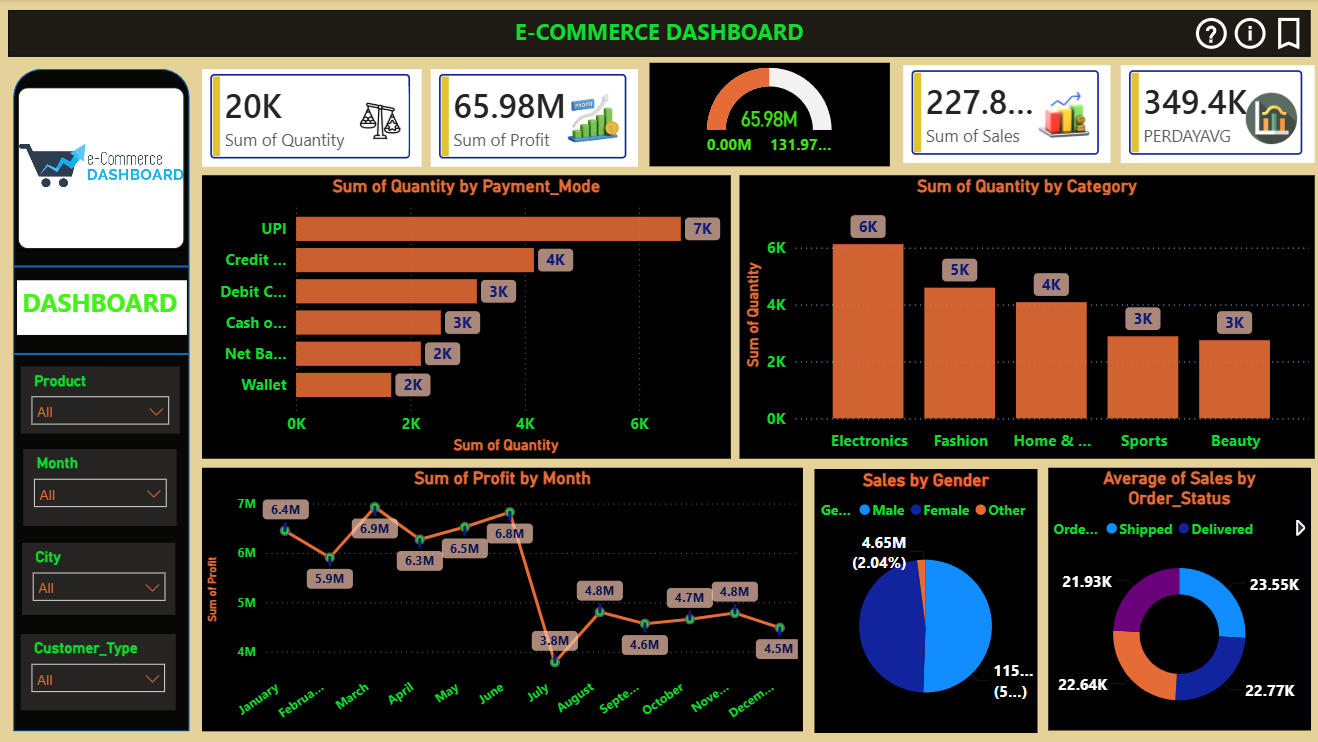

Layout of this report page (visuals, bound fields, positions):
{"tool":"powerbi","page":{"name":"DASHBOARD FINAL PRJ","canvas":[1280,720],"ordinal":0},"visuals":[{"type":"textbox","box":[11,11,1257,45],"z":0},{"type":"shape","box":[15.7,67.6,170.1,639.4],"z":1000},{"type":"lineChart","fields":{"Y":["Sum(E Commerce Data.Profit)"],"Category":["E Commerce Data.Order_Date.Variation.Date Hierarchy.Month"]},"box":[197.9,452.4,580.3,254.6],"z":2000},{"type":"donutChart","fields":{"Category":["E Commerce Data.Order_Status"],"Y":["Avg(E Commerce Data.Sales)"]},"box":[1014.6,452.4,253.4,253.4],"z":3000},{"type":"lineStackedColumnComboChart","fields":{"Category":["E Commerce Data.Category"],"Y":["Sum(E Commerce Data.Quantity)"]},"box":[716.6,170.1,555,273.9],"z":4000},{"type":"clusteredBarChart","fields":{"Y":["Sum(E Commerce Data.Quantity)"],"Category":["E Commerce Data.Payment_Mode"]},"box":[197.9,170.1,510.3,273.9],"z":5000},{"type":"slicer","fields":{"Values":["E Commerce Data.Month"]},"box":[25.3,434.3,148.4,74.8],"z":6000},{"type":"slicer","fields":{"Values":["E Commerce Data.City"]},"box":[24.1,524.8,148.4,70],"z":7000},{"type":"slicer","fields":{"Values":["E Commerce Data.Customer_Type"]},"box":[22.9,612.9,149.6,73.6],"z":8000},{"type":"slicer","fields":{"Values":["E Commerce Data.Product"]},"box":[22.9,354.7,153.2,65.1],"z":9000},{"type":"gauge","fields":{"Y":["Sum(E Commerce Data.Profit)"]},"box":[629.8,61.5,231.6,100.1],"z":10000},{"type":"pieChart","title":"Sales by Gender","fields":{"Y":["Sum(E Commerce Data.Sales)"],"Category":["E Commerce Data.Gender"]},"box":[789,453.6,214.7,254.6],"z":11000},{"type":"shape","box":[15.7,313.7,170.1,57.9],"z":12000},{"type":"image","box":[19.3,84.5,162.9,158],"z":13000},{"type":"actionButton","box":[1152.2,13.3,53.1,39.8],"z":14000},{"type":"actionButton","box":[1189.6,13.3,49.5,39.8],"z":15000},{"type":"actionButton","box":[1227,13.3,41,39.8],"z":16000},{"type":"cardVisual","fields":{"Data":["Sum(E Commerce Data.Profit)"]},"box":[418.6,67.6,200.3,94.1],"z":17000},{"type":"image","box":[534.5,80.8,84.5,66.4],"z":18000},{"type":"cardVisual","fields":{"Data":["Sum(E Commerce Data.Quantity)"]},"box":[197.9,67.6,212.3,94.1],"z":19000},{"type":"image","box":[342.6,84.5,54.3,66.4],"z":20000},{"type":"cardVisual","fields":{"Data":["Sum(E Commerce Data.Sales)"]},"box":[874.7,63.9,200.3,94.1],"z":21000},{"type":"image","box":[1003.8,76,51.9,71.2],"z":22000},{"type":"cardVisual","fields":{"Data":["E Commerce Data.PERDAYAVG"]},"box":[1084.6,63.9,187,94.1],"z":23000},{"type":"image","box":[1205.2,83.2,49.5,63.9],"z":24000},{"type":"textbox","box":[19.3,271.4,164.1,53.1],"z":25000},{"type":"shape","box":[15.7,229.2,170.1,57.9],"z":27000}]}

Visuals, with their boxes in screenshot pixels (x1, y1, x2, y2), scaled from the page's 1280x720 canvas onto the 1318x742 screenshot:
textbox: box(11, 11, 1306, 58)
shape: box(16, 70, 191, 729)
lineChart - Sum(E Commerce Data.Profit) x E Commerce Data.Order_Date.Variation.Date Hierarchy.Month: box(204, 466, 801, 729)
donutChart - E Commerce Data.Order_Status x Avg(E Commerce Data.Sales): box(1045, 466, 1306, 727)
lineStackedColumnComboChart - E Commerce Data.Category x Sum(E Commerce Data.Quantity): box(738, 175, 1309, 458)
clusteredBarChart - Sum(E Commerce Data.Quantity) x E Commerce Data.Payment_Mode: box(204, 175, 729, 458)
slicer - E Commerce Data.Month: box(26, 448, 179, 525)
slicer - E Commerce Data.City: box(25, 541, 178, 613)
slicer - E Commerce Data.Customer_Type: box(24, 632, 178, 707)
slicer - E Commerce Data.Product: box(24, 366, 181, 433)
gauge - Sum(E Commerce Data.Profit): box(648, 63, 887, 167)
"Sales by Gender" pieChart: box(812, 467, 1033, 730)
shape: box(16, 323, 191, 383)
image: box(20, 87, 188, 250)
actionButton: box(1186, 14, 1241, 55)
actionButton: box(1225, 14, 1276, 55)
actionButton: box(1263, 14, 1306, 55)
cardVisual - Sum(E Commerce Data.Profit): box(431, 70, 637, 167)
image: box(550, 83, 637, 152)
cardVisual - Sum(E Commerce Data.Quantity): box(204, 70, 422, 167)
image: box(353, 87, 409, 156)
cardVisual - Sum(E Commerce Data.Sales): box(901, 66, 1107, 163)
image: box(1034, 78, 1087, 152)
cardVisual - E Commerce Data.PERDAYAVG: box(1117, 66, 1309, 163)
image: box(1241, 86, 1292, 152)
textbox: box(20, 280, 189, 334)
shape: box(16, 236, 191, 296)
